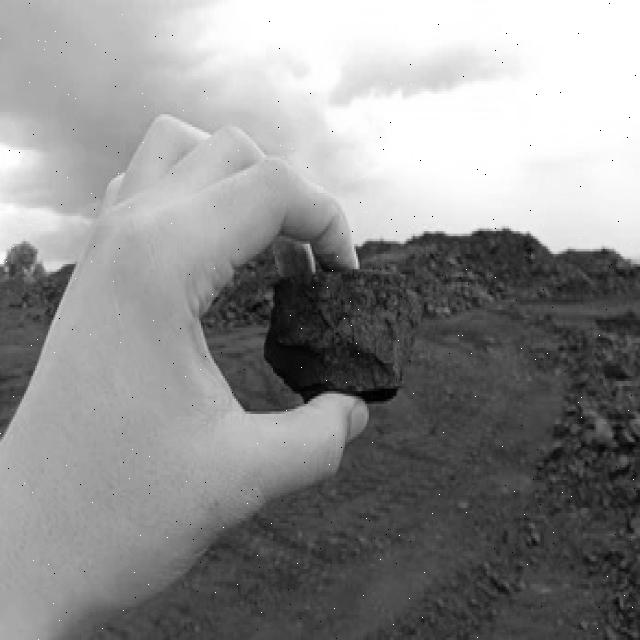Sedimentary: (254, 264, 433, 414)
